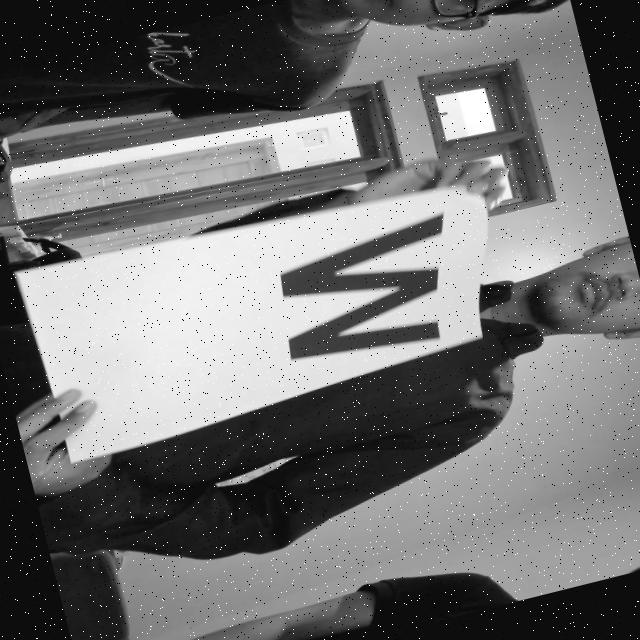w: (242, 205, 484, 396)
